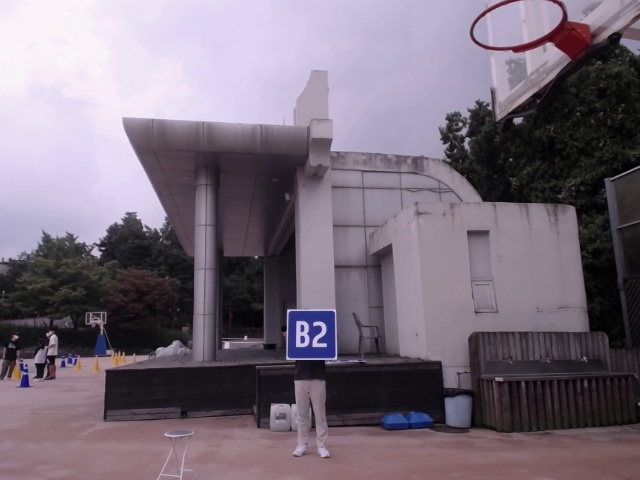delivery_b2: (287, 308, 338, 360)
